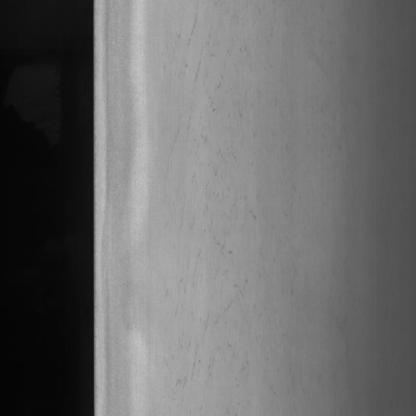silk_spot: (172, 17, 254, 416)
